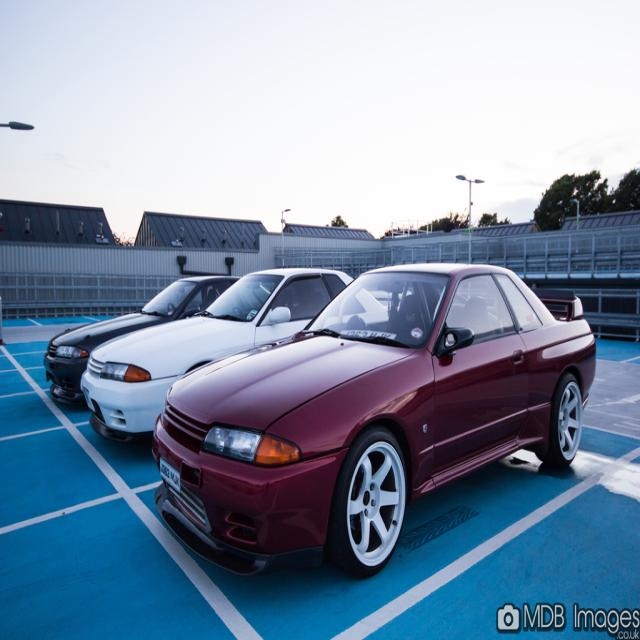car: (136, 263, 601, 580)
